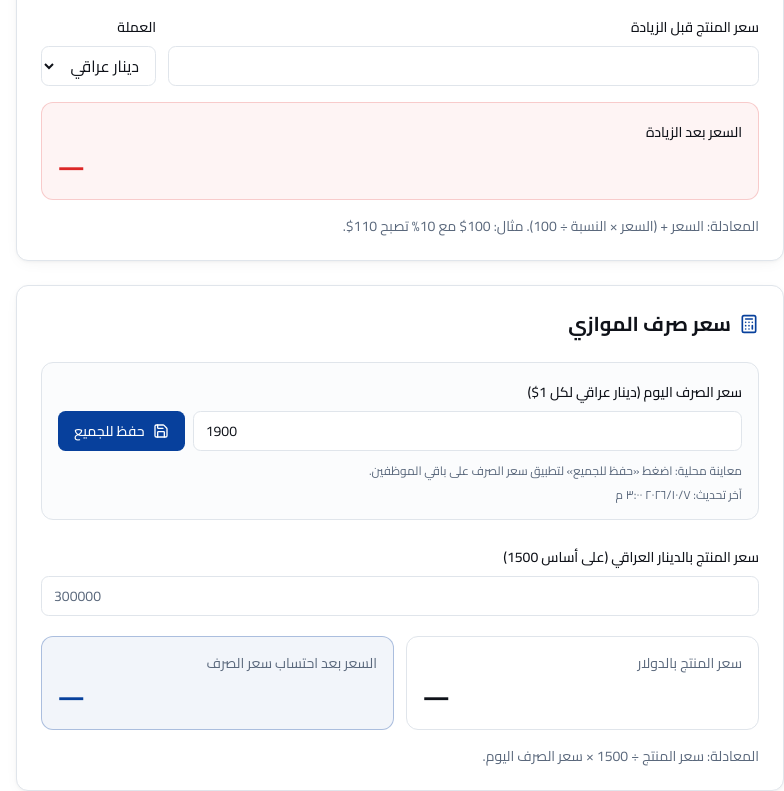
Test: preserves an unsaved preview while disabling invalid rate saves
Earlier steps of the test are not shown.
(page scrolled)
Replace the text in the field labelled "سعر الصرف اليوم (دينار عراقي لكل 1$)" with "0" at x=467, y=431, box [193, 411, 742, 451]
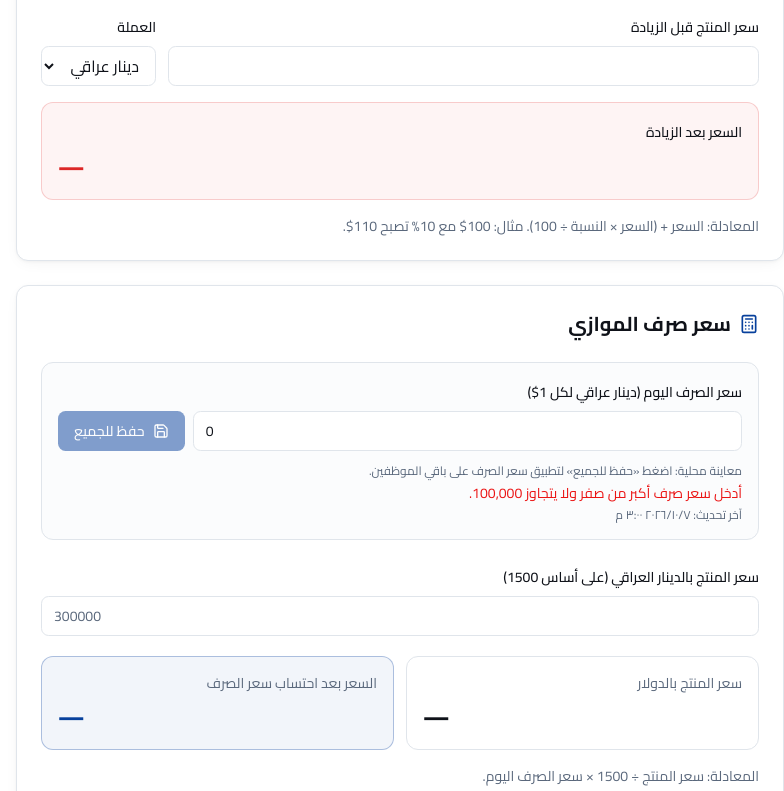
Expected: the text named "السعر النهائي بالدينار" reads "—", [58, 694, 84, 739]
Expected: the button "حفظ للجميع" is disabled, [58, 411, 185, 451]
